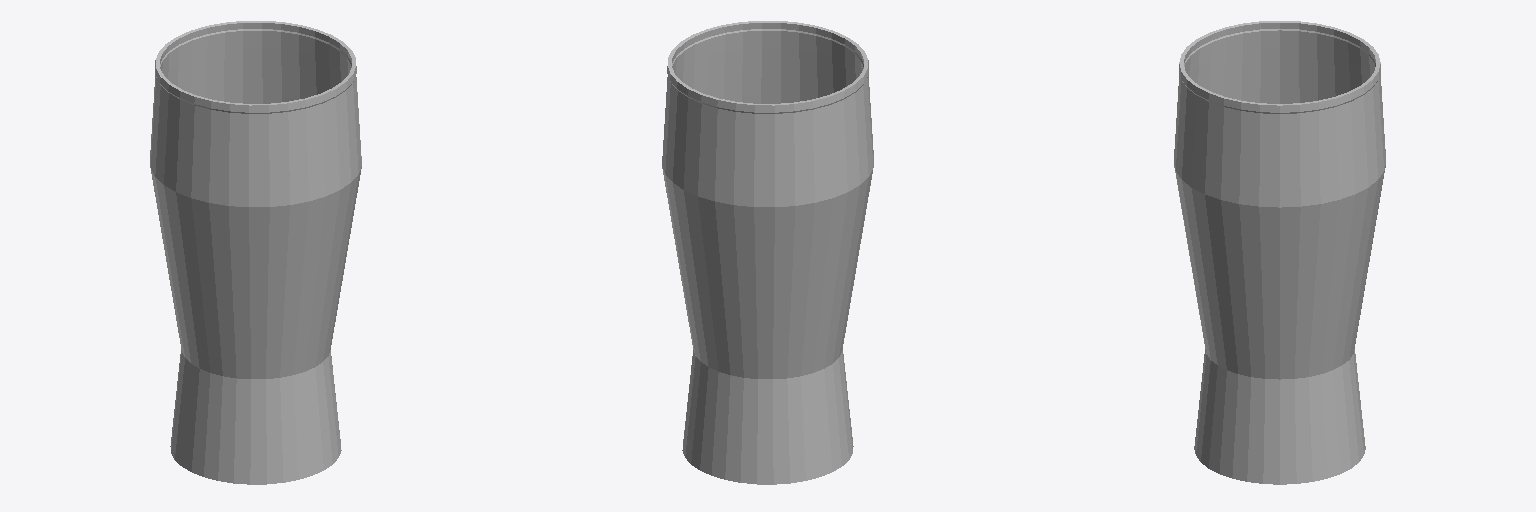
File: beerGlass.obj
The picture shows the model from 3 angles: view 1: azimuth 30°, elevation 25°; view 2: azimuth 150°, elevation 25°; view 3: azimuth 270°, elevation 25°; orthographic projection.
Parts seen in each view (by area): view 1: Cylinder; view 2: Cylinder; view 3: Cylinder.
Part boxes in pixels (x1,y1,x2,y2): Cylinder: (150,21,361,484); Cylinder: (662,21,873,484); Cylinder: (1174,21,1385,484).
Size of the model in its own units: 0.546 by 1.09 by 0.546.